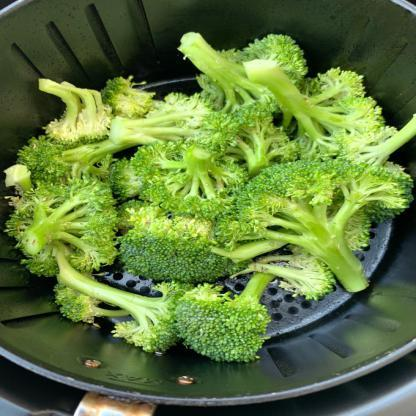broccoli: (4, 31, 416, 362)
